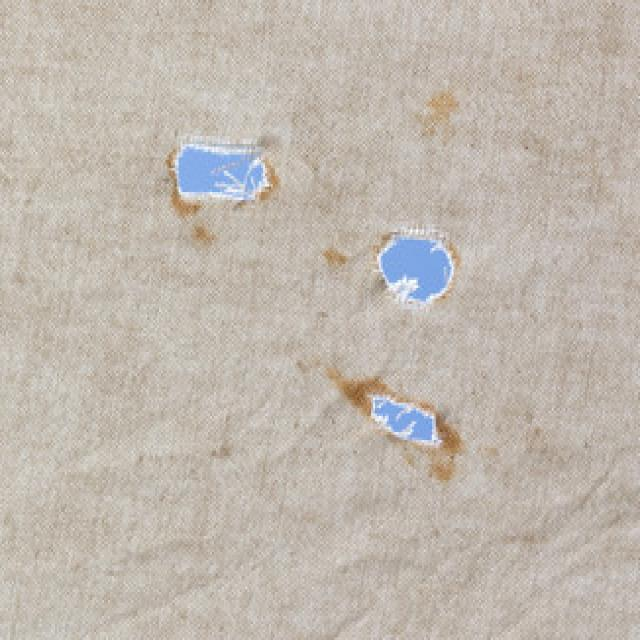Hole: (327, 369, 464, 482), (168, 135, 279, 216), (378, 229, 456, 304)
